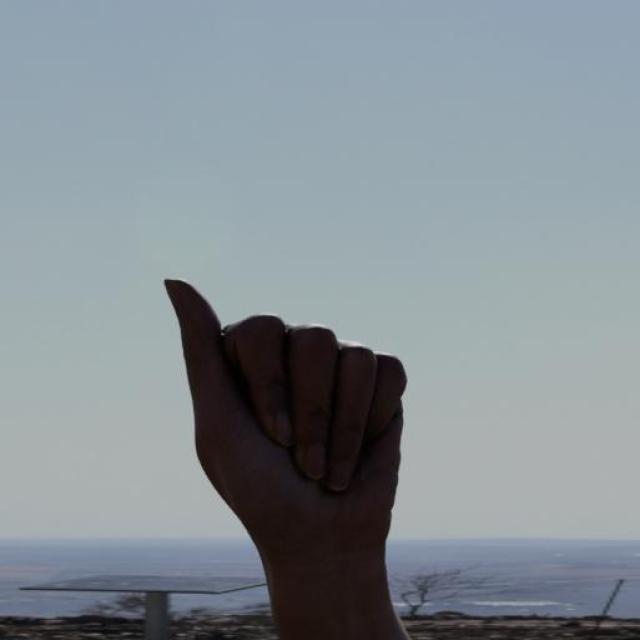A: (148, 271, 428, 583)
